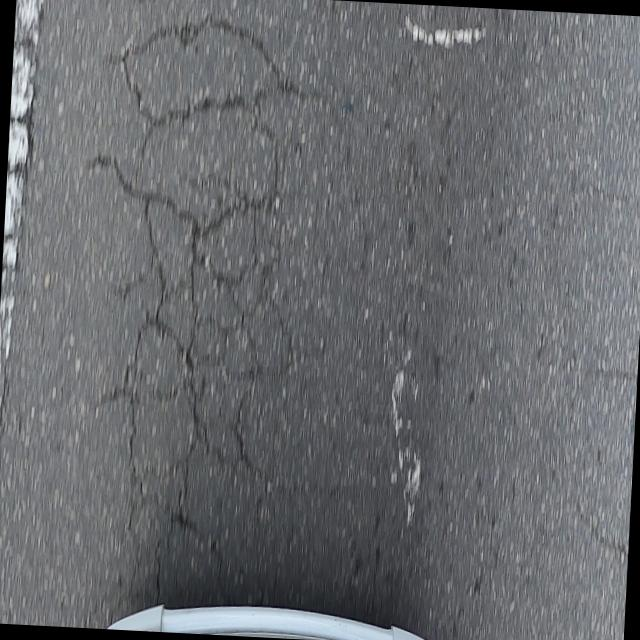Retak-Buaya: (90, 13, 292, 608)
